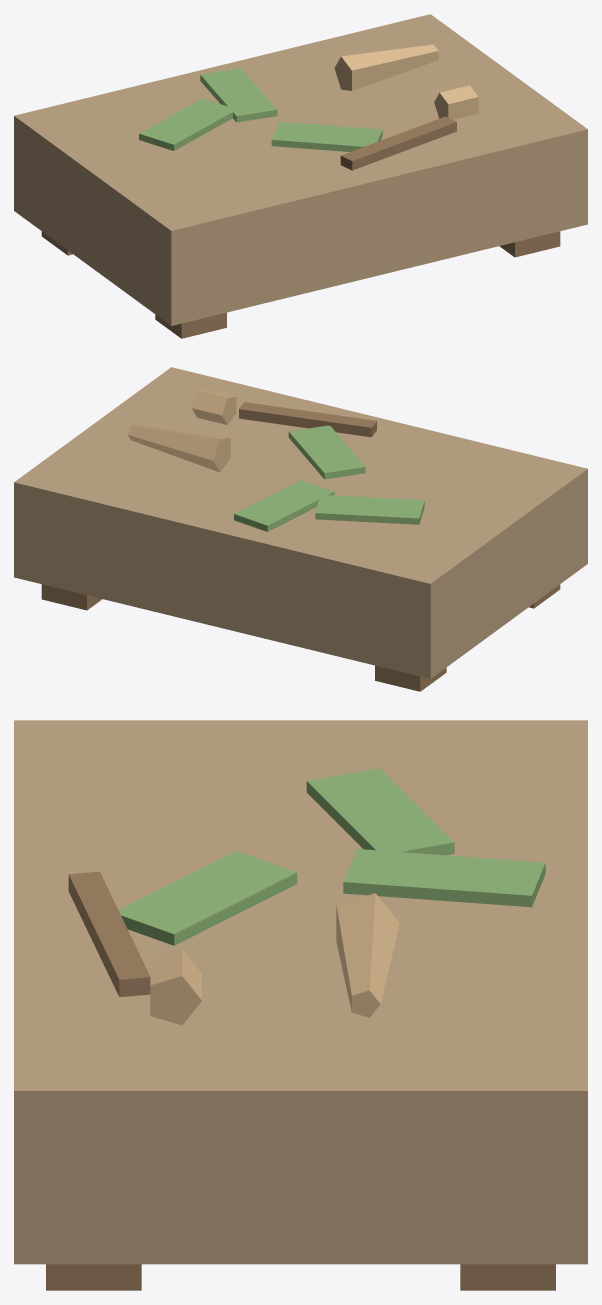
Rendered from prop-herb-cutting-slab.fbx.
The picture shows the model from 3 angles, top to bottom: view 1: azimuth 30°, elevation 25°; view 2: azimuth 150°, elevation 25°; view 3: azimuth 270°, elevation 25°; orthographic projection. The views are drawn at different scales.
Parts seen in each view (by area): view 1: prop-herb-cutting-slab; view 2: prop-herb-cutting-slab; view 3: prop-herb-cutting-slab.
Part boxes in pixels (x1,y1,x2,y2): prop-herb-cutting-slab: (14, 14, 587, 338); prop-herb-cutting-slab: (14, 367, 587, 691); prop-herb-cutting-slab: (14, 720, 587, 1290).
Size of the model in its own units: 55 by 19.59 by 36.
